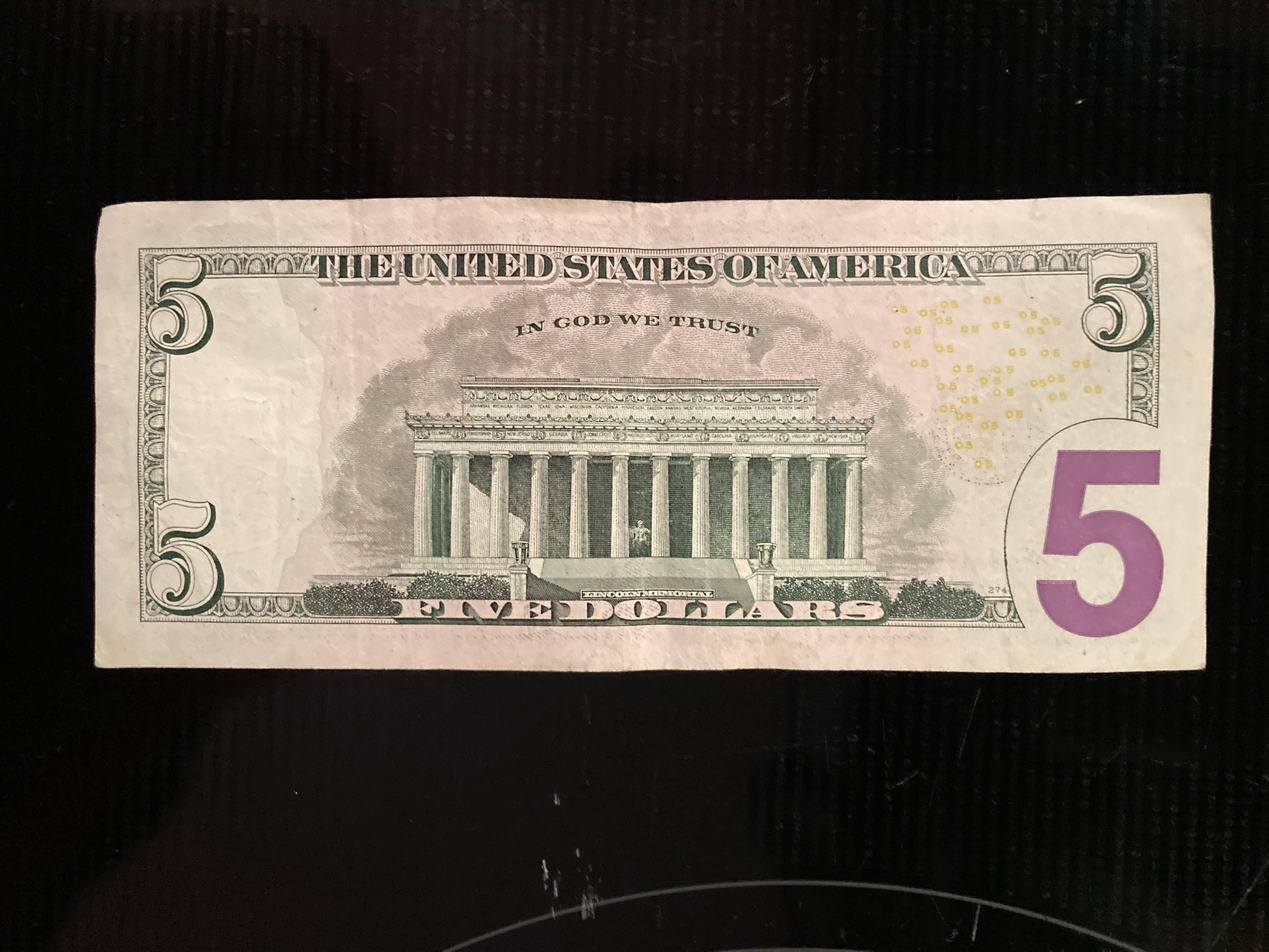five-back: (93, 190, 1215, 672)
